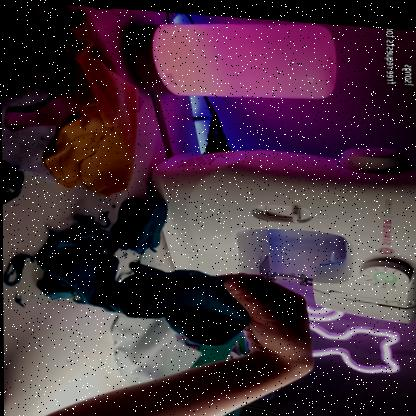streamer: (25, 256, 313, 416)
